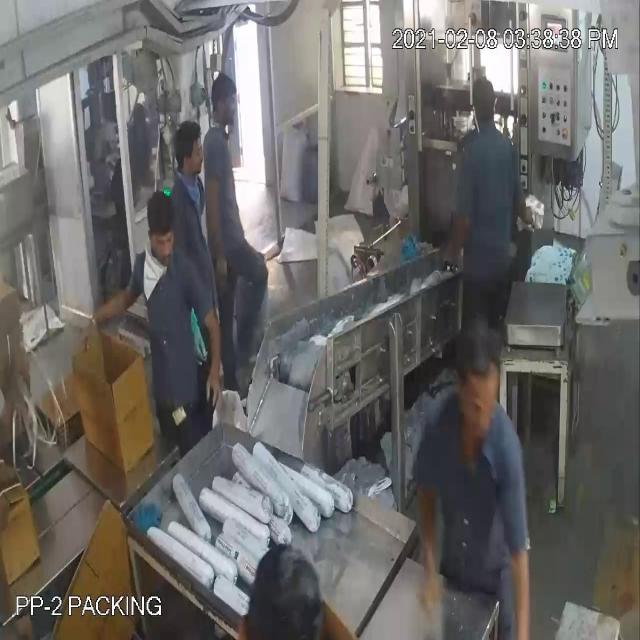No_Gloves: (34, 52, 529, 579)
